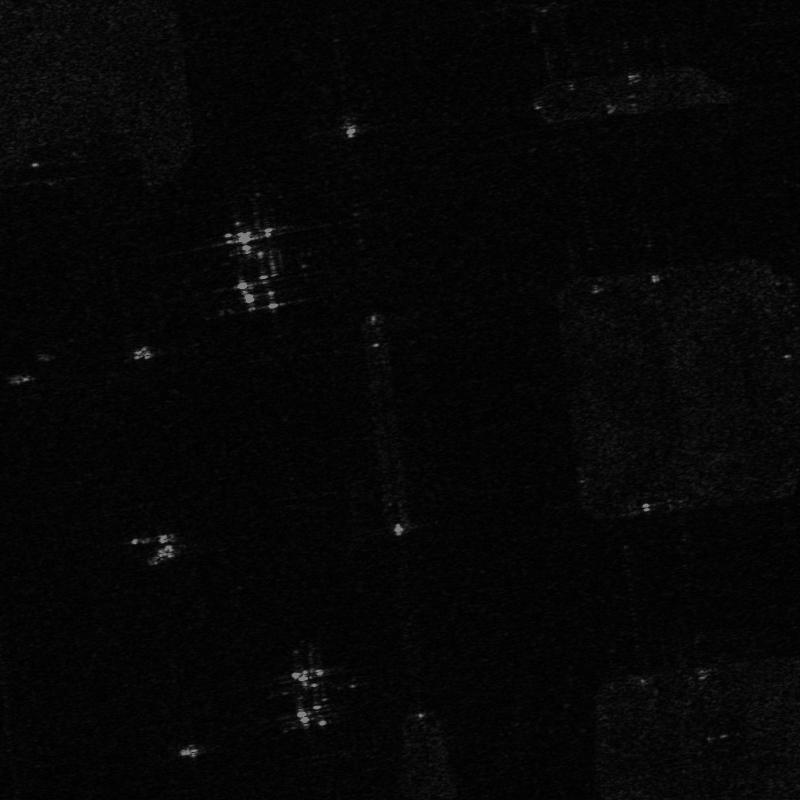Boeing787: (268, 638, 358, 738)
other: (205, 219, 303, 315)
